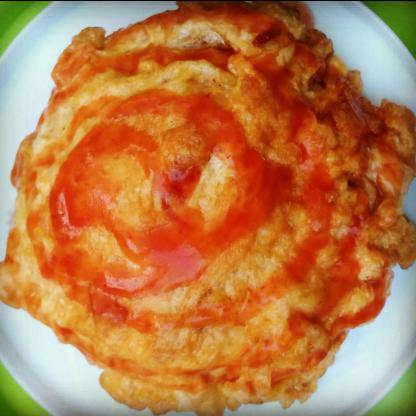Omelette: (6, 1, 414, 402)
